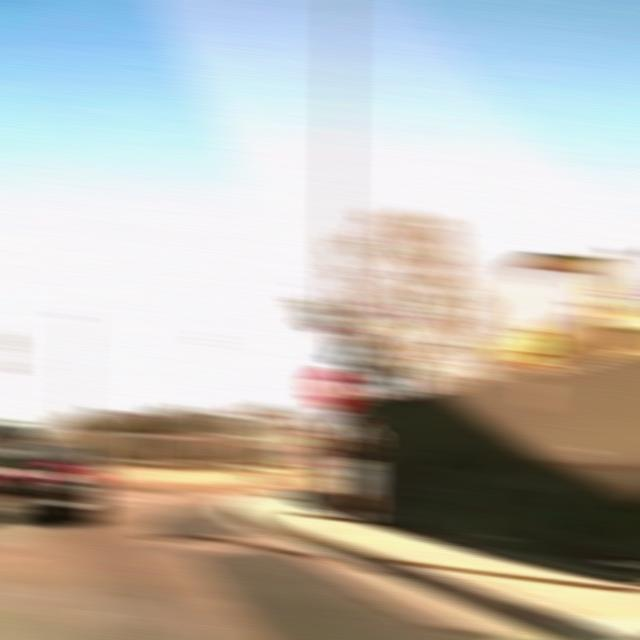stop_sign: (308, 366, 359, 413)
